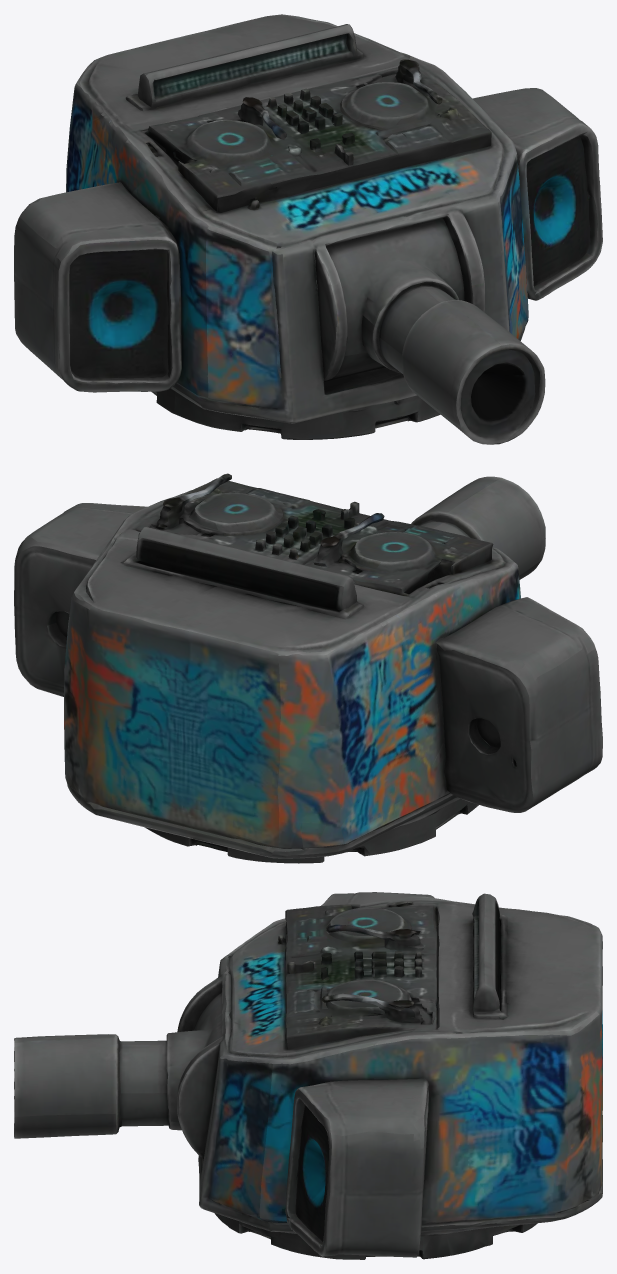
Rendered from P_TANK_TURRET_neon.glb.
3 views of the same model, one above another, from view 1: azimuth 30°, elevation 25°; view 2: azimuth 150°, elevation 25°; view 3: azimuth 270°, elevation 25° (orthographic). The views are drawn at different scales.
Visible parts, largest first — view 1: world; view 2: world; view 3: world.
Part boxes in pixels (left/top/right/bottom): world: left=14, top=14, right=602, bottom=444; world: left=14, top=473, right=602, bottom=863; world: left=14, top=892, right=602, bottom=1259.
Size of the model in its own units: 0.9914 by 0.4771 by 1.
Materials: 1 (1 with a texture image).
